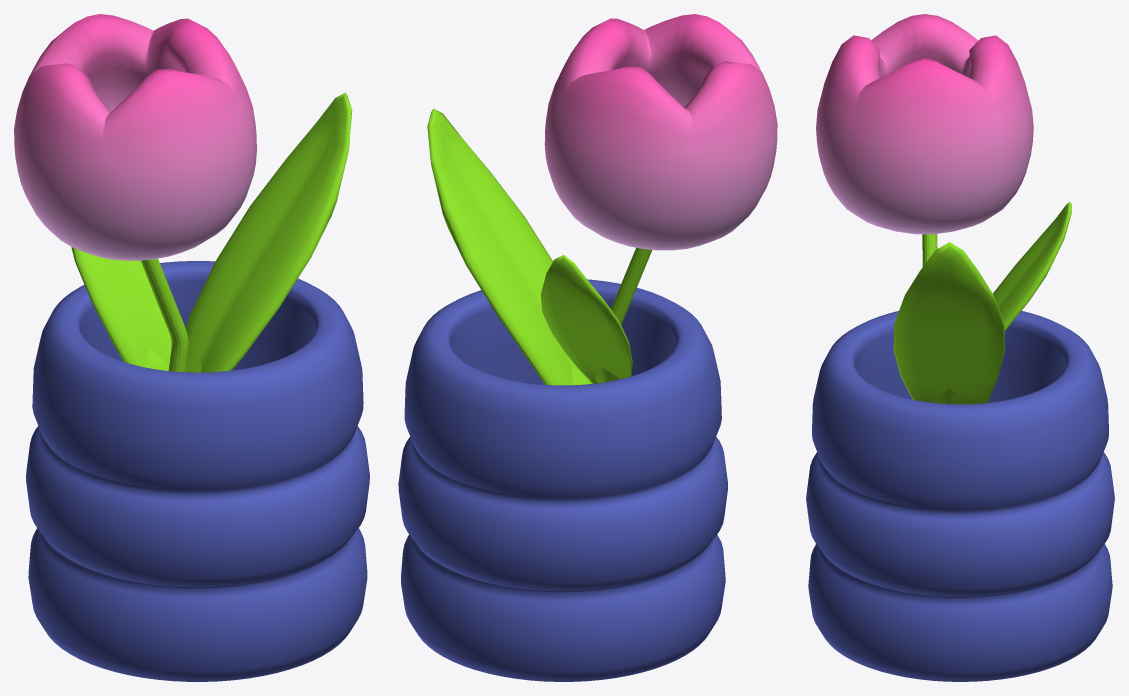
File: tulipvase.glb
3 views of the same model, side by side, from view 1: azimuth 30°, elevation 25°; view 2: azimuth 150°, elevation 25°; view 3: azimuth 270°, elevation 25° (orthographic). The views are drawn at different scales.
Parts seen in each view (by area): view 1: Vase, Tulip, FogliaGrande, FogliaPiccola, Stelo; view 2: Vase, Tulip, FogliaGrande, FogliaPiccola, Stelo; view 3: Vase, Tulip, FogliaGrande, FogliaPiccola.
Boxes of the visible parts, x1,y1,x2,y2 form: Vase: (26,261,369,681); Tulip: (14,14,256,260); FogliaGrande: (185,92,352,372); FogliaPiccola: (71,247,171,370); Stelo: (141,258,188,372); Vase: (398,279,727,681); Tulip: (544,14,777,250); FogliaGrande: (427,108,591,385); FogliaPiccola: (540,255,632,383); Stelo: (611,247,652,324); Vase: (806,311,1114,681); Tulip: (816,14,1033,234); FogliaGrande: (893,242,1004,404); FogliaPiccola: (993,201,1071,330).
Size of the model in its own units: 1.97 by 3.52 by 1.75.
Materials: 5 (1 with a texture image).
